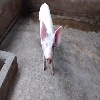heo: (37, 2, 62, 77)
